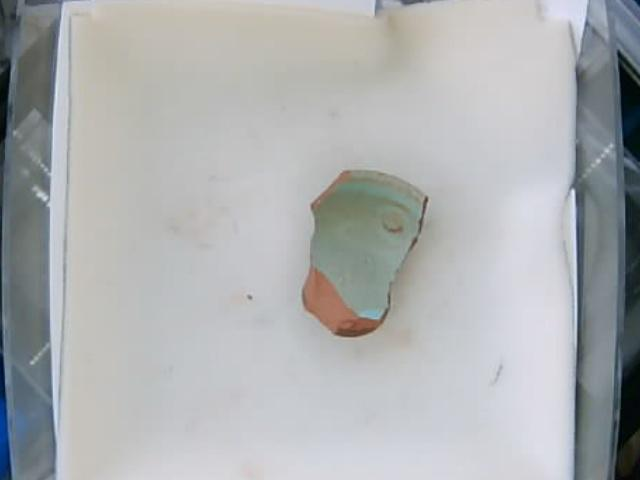China: (306, 169, 424, 335)
